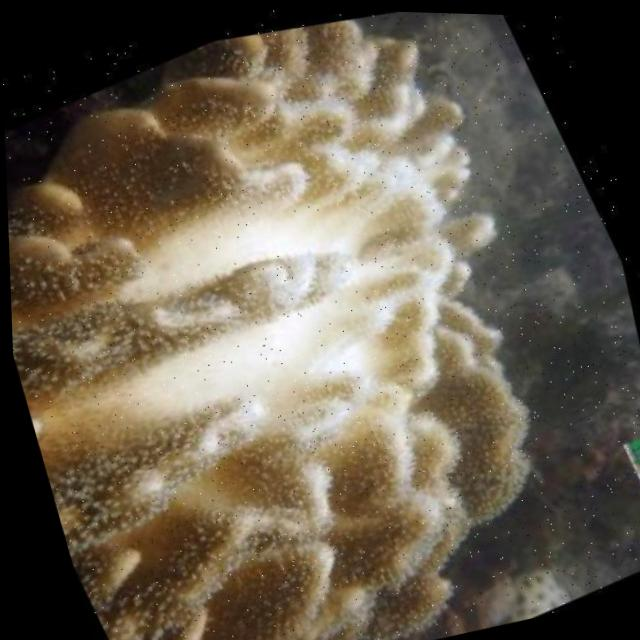Bleached Coral: (2, 63, 551, 523)
